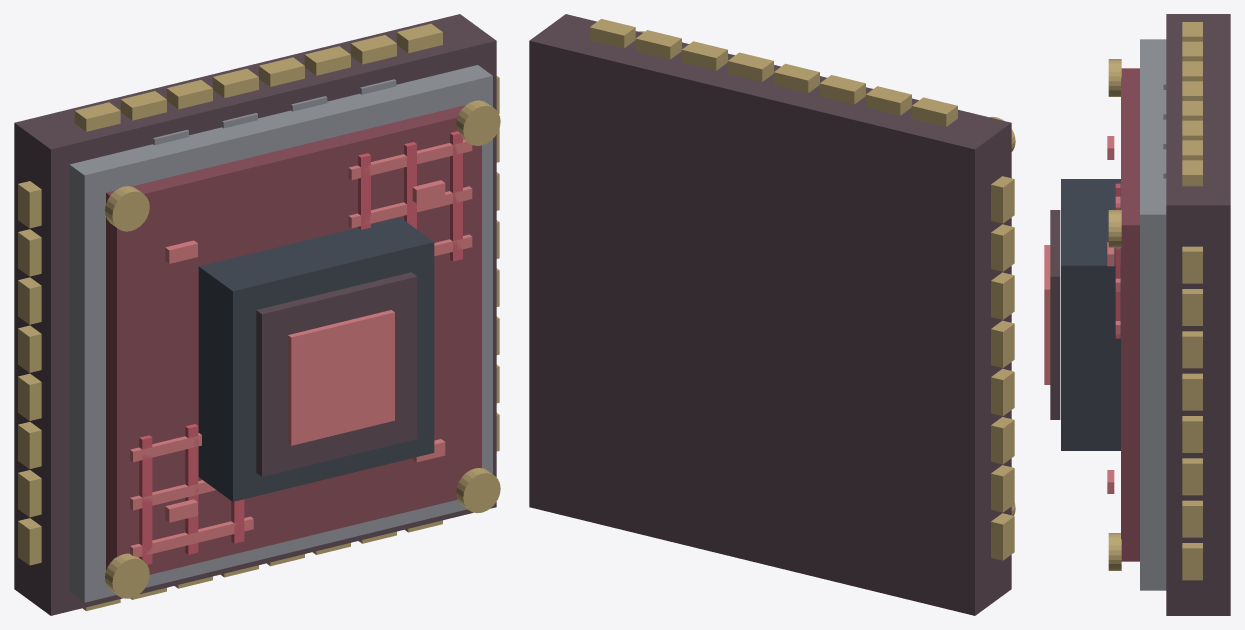
File: chip2.glb
The picture shows the model from 3 angles, left to right: view 1: azimuth 30°, elevation 25°; view 2: azimuth 150°, elevation 25°; view 3: azimuth 270°, elevation 25°; orthographic projection. The views are drawn at different scales.
Visible parts, largest first — view 1: red_pcb_layer, chip_base, metal_frame, processor_die, die_top, central_red_core, corner_screw_-1_1, corner_screw_-1_-1, corner_screw_1_1, trace_v_-1_2, corner_screw_1_-1, trace_h_-1_2 (+24 smaller); view 2: chip_base, pin_x_1_0, pin_x_1_1, pin_x_1_7, pin_y_-1_7, pin_x_1_2, pin_x_1_3, pin_x_1_4, pin_x_1_6, pin_y_-1_1, pin_y_-1_3, pin_y_-1_4 (+5 smaller); view 3: chip_base, processor_die, metal_frame, red_pcb_layer, die_top, central_red_core, pin_y_1_0, pin_y_1_1, pin_y_1_2, pin_y_1_4, pin_y_1_5, pin_y_1_7 (+14 smaller).
Part boxes in pixels (x1,y1,x2,y2): red_pcb_layer: (106, 105, 481, 574); chip_base: (14, 14, 496, 615); metal_frame: (69, 65, 492, 602); processor_die: (198, 217, 434, 501); die_top: (256, 272, 417, 476); central_red_core: (288, 310, 394, 445); corner_screw_-1_1: (105, 186, 149, 231); corner_screw_-1_-1: (105, 553, 149, 598); corner_screw_1_1: (456, 100, 500, 145); trace_v_-1_2: (139, 435, 152, 564); corner_screw_1_-1: (456, 468, 500, 513); trace_h_-1_2: (130, 516, 253, 557); chip_base: (529, 14, 1011, 615); pin_x_1_0: (911, 97, 957, 126); pin_x_1_1: (865, 86, 911, 115); pin_x_1_7: (589, 19, 635, 48); pin_y_-1_7: (991, 176, 1014, 223); pin_x_1_2: (819, 75, 865, 104); pin_x_1_3: (773, 63, 819, 93); pin_x_1_4: (727, 52, 773, 81); pin_x_1_6: (635, 30, 681, 59); pin_y_-1_1: (991, 465, 1014, 512); pin_y_-1_3: (991, 368, 1014, 416); pin_y_-1_4: (991, 320, 1014, 367); chip_base: (1166, 14, 1230, 615); processor_die: (1061, 179, 1120, 450); metal_frame: (1140, 39, 1166, 590); red_pcb_layer: (1121, 68, 1139, 561); die_top: (1050, 210, 1060, 419); central_red_core: (1044, 245, 1050, 384); pin_y_1_0: (1182, 543, 1202, 580); pin_y_1_1: (1182, 500, 1202, 537); pin_y_1_2: (1182, 458, 1202, 495); pin_y_1_4: (1182, 373, 1202, 410); pin_y_1_5: (1182, 331, 1202, 368); pin_y_1_7: (1182, 246, 1202, 283).
Size of the model in its own units: 1.63 by 1.63 by 0.6375.
